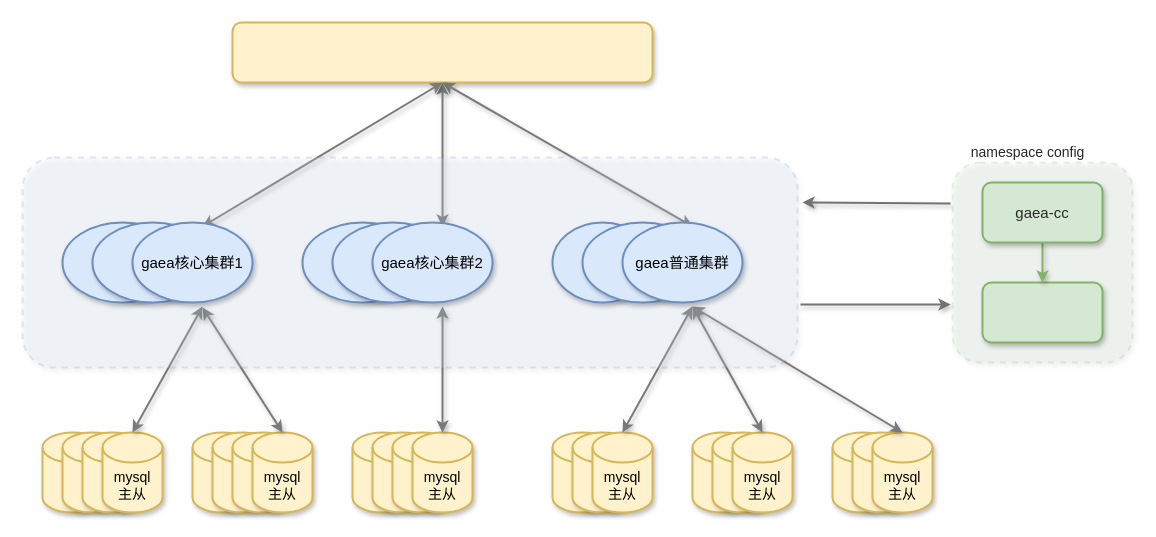
The diagram is 1156 pixels wide and 537 high, and some of its shapes have lost their labels. The shapes that lost their labels are listed below. From the top down, each one's centre as x and y in pixels, then its label:
the point at 443,53: mysql client
the point at 1043,313: etcd
